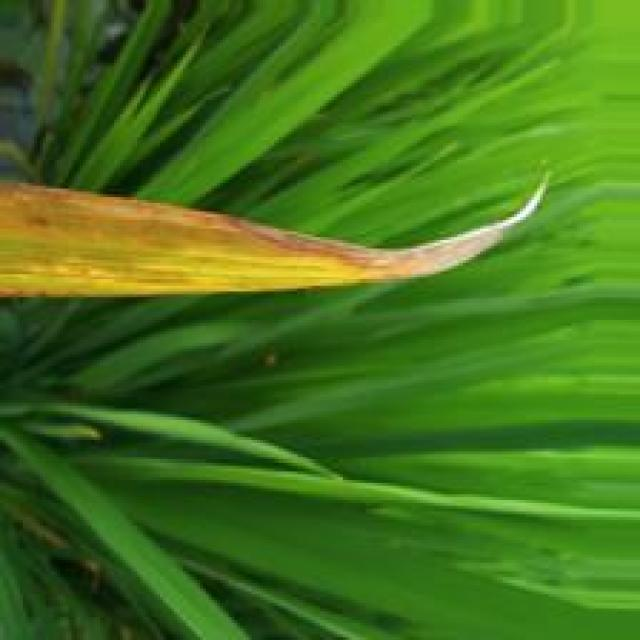Leaf_Scald: (219, 215, 494, 281)
